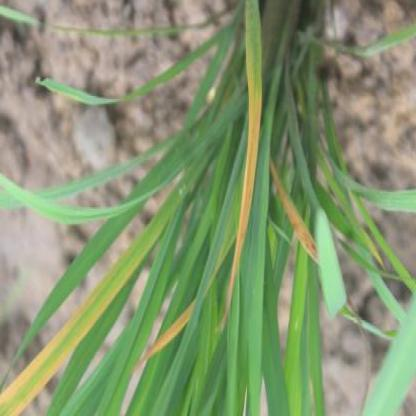Tungro: (216, 17, 268, 308)
